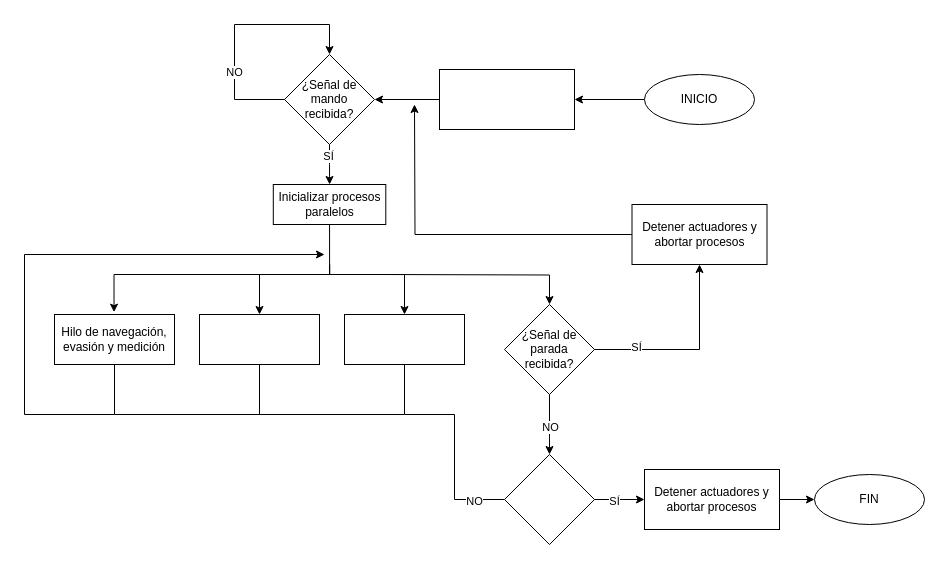
Image size: 942x562. Some labels were removed from this diagram. The shapes that lost their labels are listed below. From the top down, each one's box as (x1, y1, x2, y2) in pixels, then its label:
(438, 68, 574, 130): Inicializar controlador y módulos adyacentes
(198, 314, 320, 364): Hilo de telemetría y almacenamiento
(344, 314, 464, 364): Hilo de monitoreo de energía
(504, 454, 594, 544): ¿Flag de terminación?
